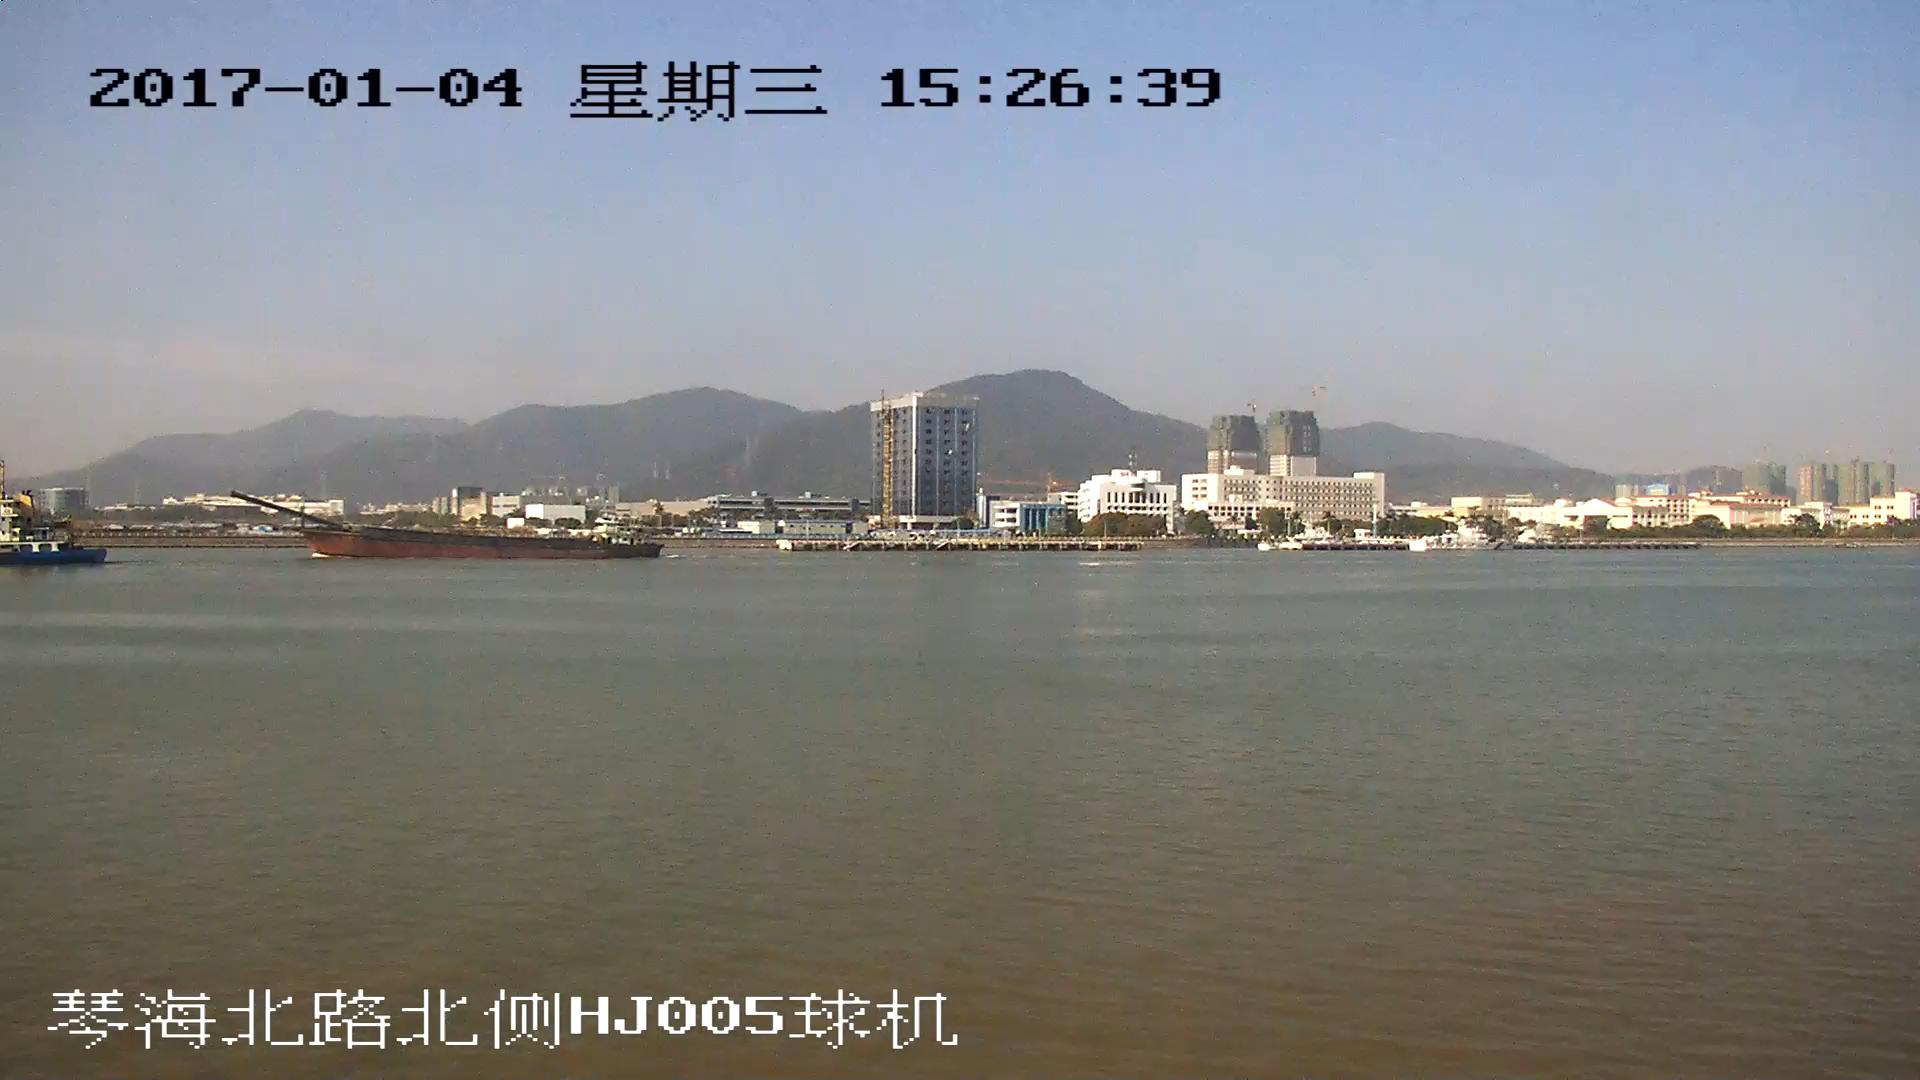bulk cargo carrier: (235, 492, 665, 563)
